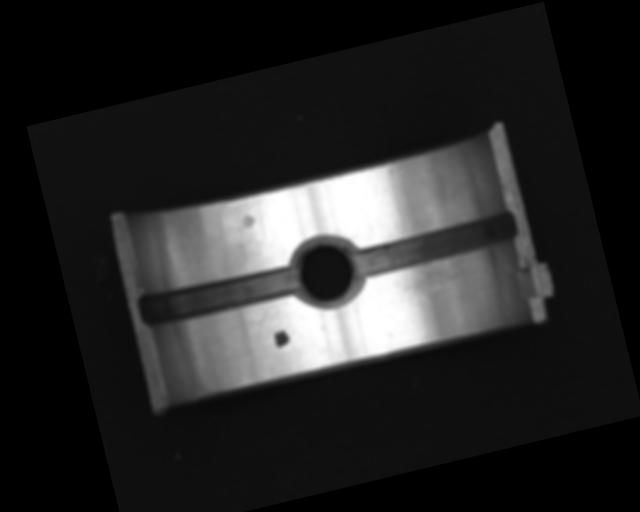blot: (272, 327, 291, 349)
bruise: (239, 212, 256, 230)
gap: (350, 208, 521, 280), (137, 261, 301, 331)
hole: (284, 232, 366, 312)
nick: (372, 183, 395, 237)
scratch: (399, 254, 481, 308)
